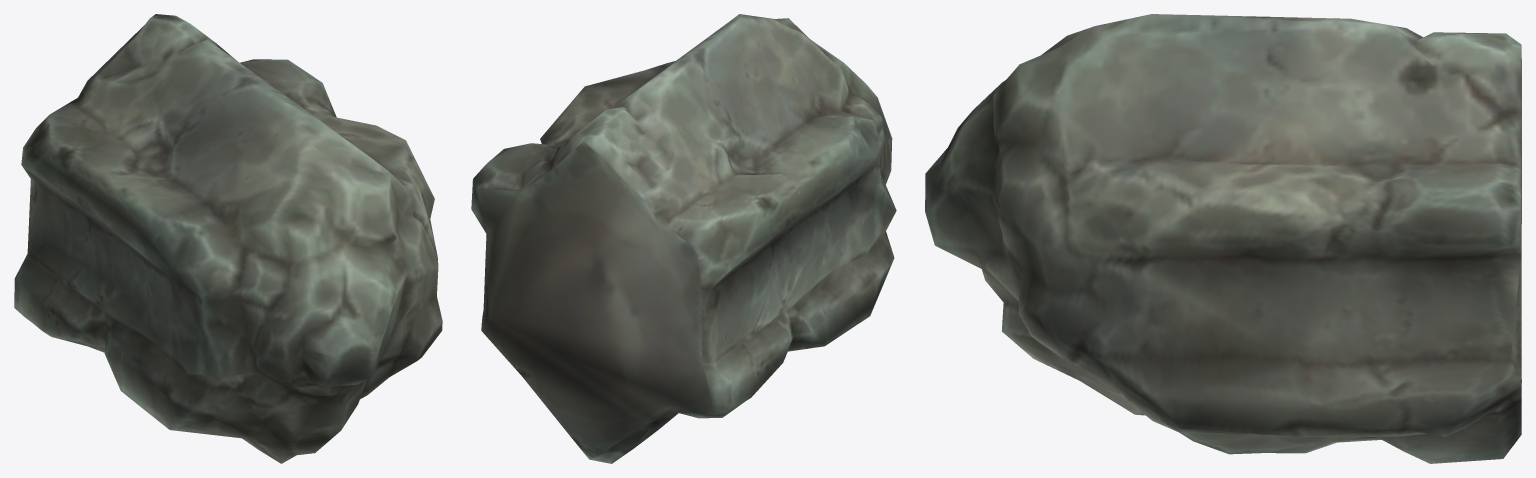
The model's file is Ruins_Pillar_Dmg_B.fbx.
The picture shows the model from 3 angles, left to right: view 1: azimuth 30°, elevation 25°; view 2: azimuth 150°, elevation 25°; view 3: azimuth 270°, elevation 25°; orthographic projection. The views are drawn at different scales.
Parts seen in each view (by area): view 1: Ruins_Pillar_Dmg_B; view 2: Ruins_Pillar_Dmg_B; view 3: Ruins_Pillar_Dmg_B.
Boxes of the visible parts, x1,y1,x2,y2 form: Ruins_Pillar_Dmg_B: (14,14,442,463); Ruins_Pillar_Dmg_B: (471,14,896,463); Ruins_Pillar_Dmg_B: (925,14,1521,463).
Size of the model in its own units: 300 by 384 by 467.
